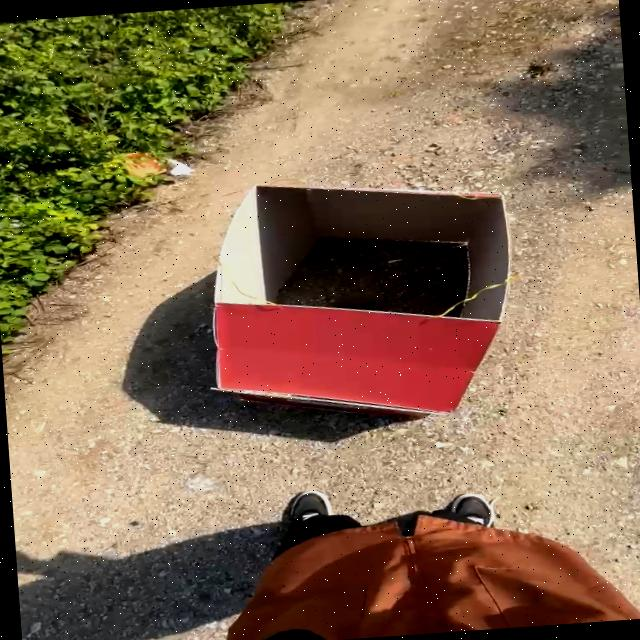red_car: (148, 151, 551, 442)
